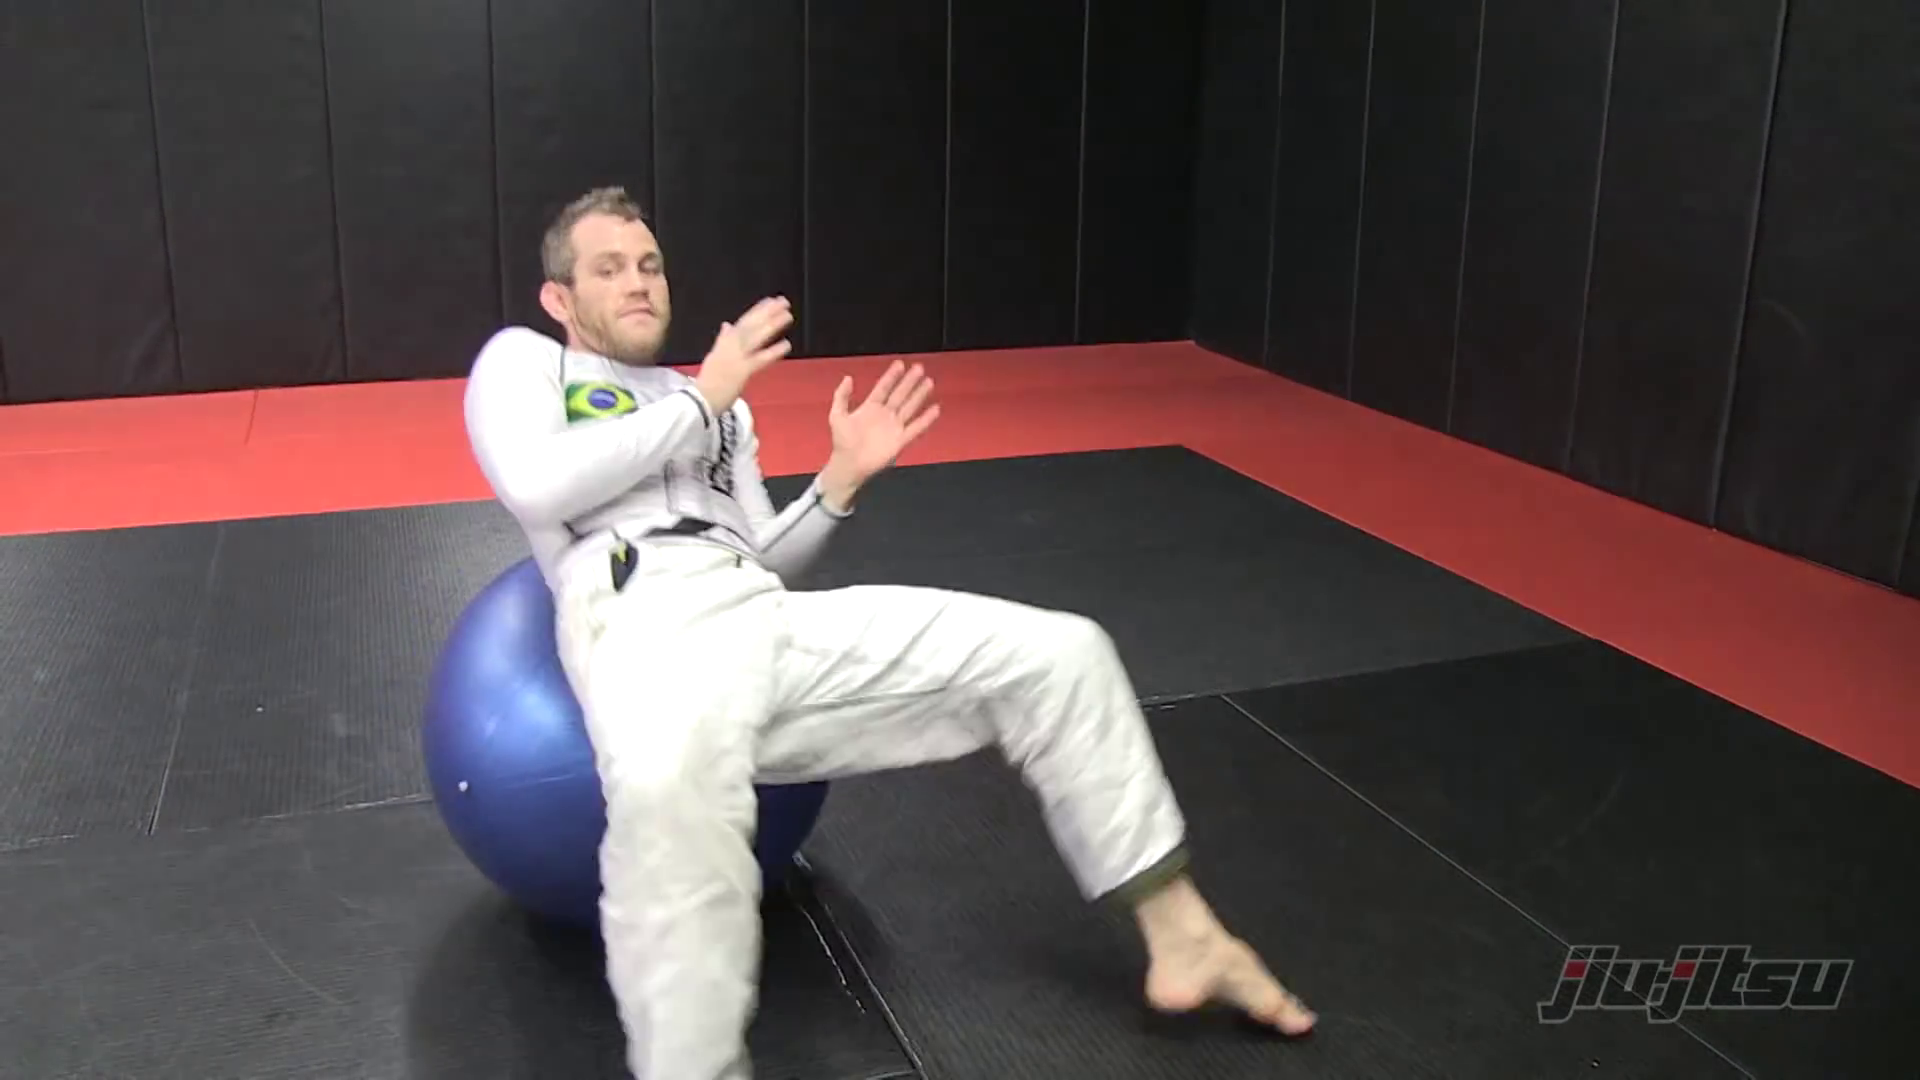yogaball: (411, 562, 841, 949)
